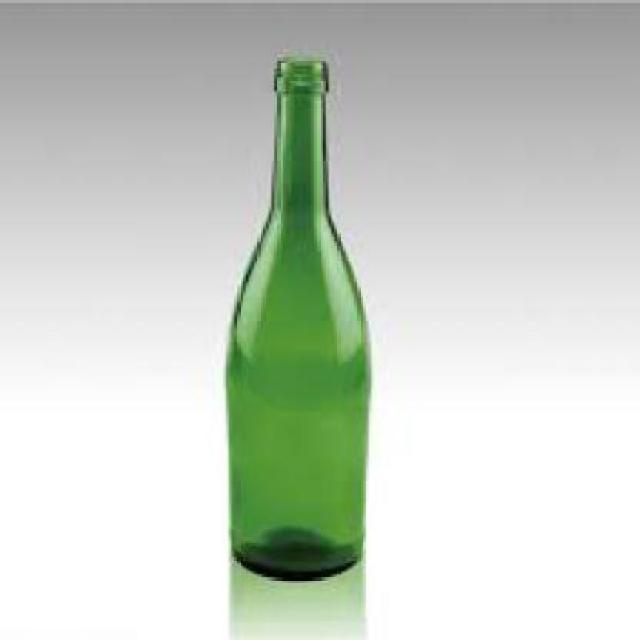kaca: (223, 56, 366, 576)
